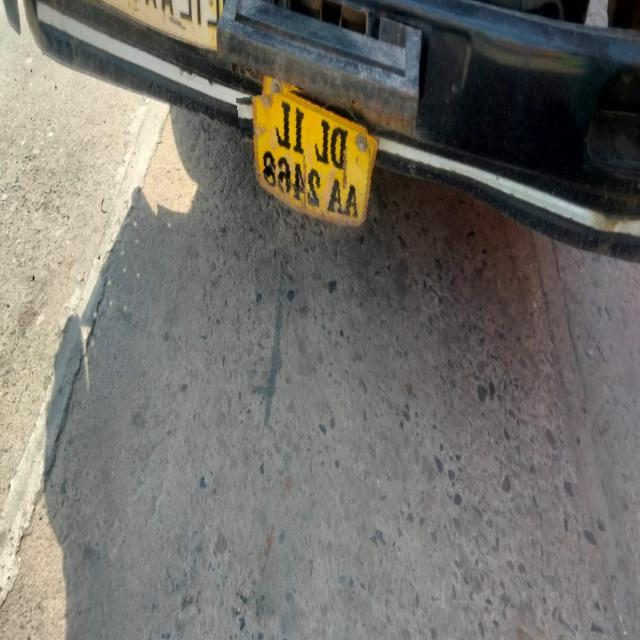License-plate: (241, 85, 377, 247)
